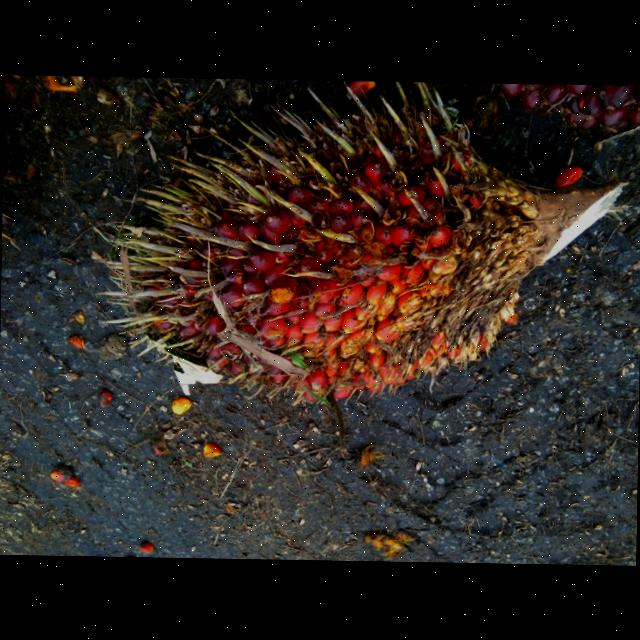Ripe: (107, 81, 625, 411)
